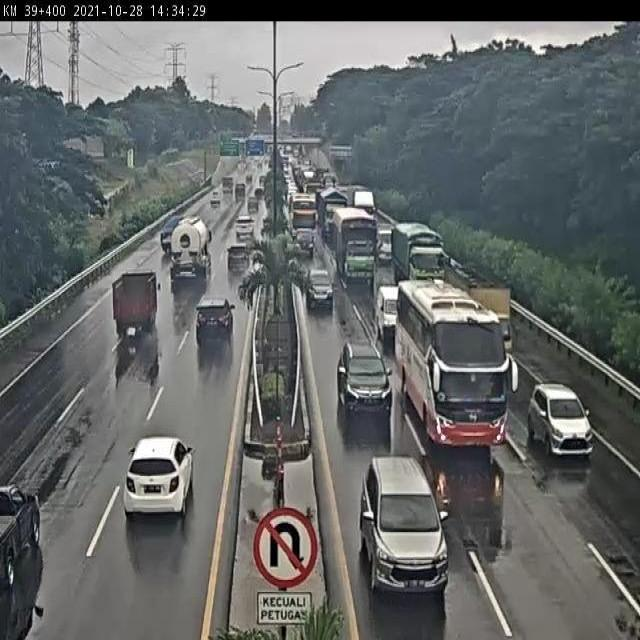big bus: (391, 272, 502, 432)
big truck: (390, 224, 445, 297), (334, 205, 381, 284), (169, 221, 210, 288)
car: (359, 455, 451, 597), (124, 436, 197, 521), (528, 385, 592, 459), (340, 337, 395, 415), (376, 282, 413, 338), (298, 261, 334, 311), (194, 298, 233, 342), (291, 225, 317, 260), (225, 244, 250, 276), (232, 217, 256, 247)
small truck: (464, 275, 502, 365), (110, 269, 159, 335)
